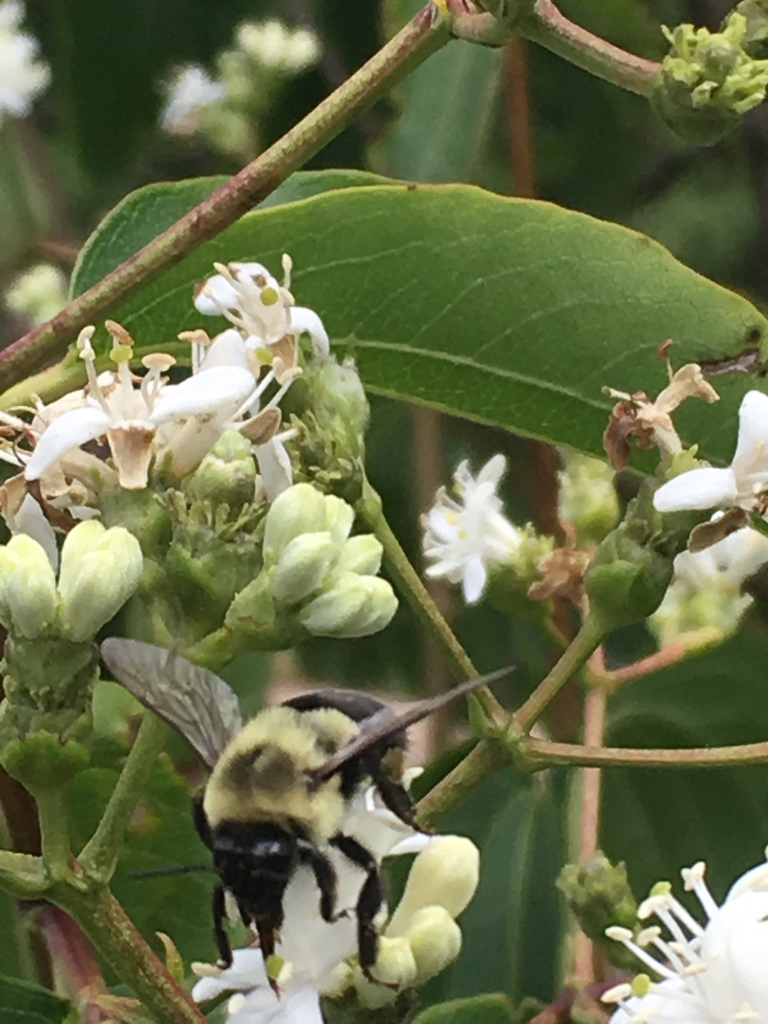bumblebee: (96, 634, 519, 996)
